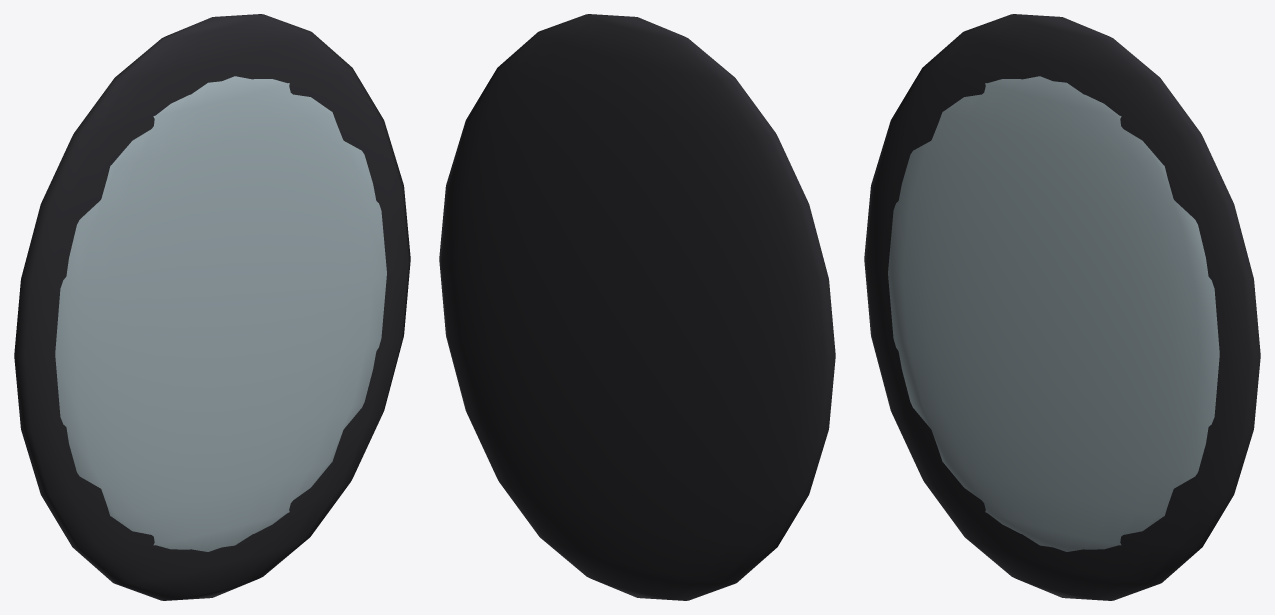
File: mirror_oval_black.glb
3 views of the same model, side by side, from view 1: azimuth 30°, elevation 25°; view 2: azimuth 150°, elevation 25°; view 3: azimuth 330°, elevation 25° (orthographic).
Visible parts, largest first — view 1: GD_mirror_oval_black__m1, GD_mirror_oval_black__m0; view 2: GD_mirror_oval_black__m0; view 3: GD_mirror_oval_black__m1, GD_mirror_oval_black__m0.
Part boxes in pixels (x1,y1,x2,y2): GD_mirror_oval_black__m1: [55, 76, 386, 551]; GD_mirror_oval_black__m0: [14, 14, 410, 600]; GD_mirror_oval_black__m0: [439, 14, 835, 600]; GD_mirror_oval_black__m1: [888, 76, 1219, 551]; GD_mirror_oval_black__m0: [864, 14, 1260, 600].
Bounding box in the file's own units: 0.74 × 1.04 × 0.1038.
